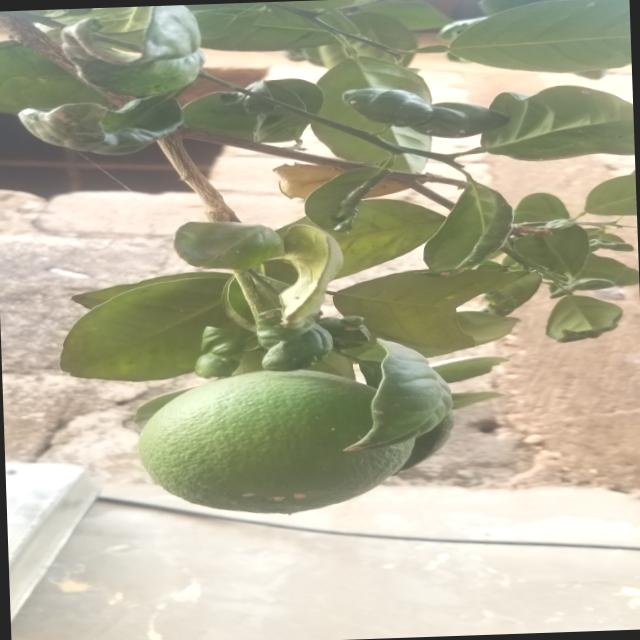agrume: (119, 364, 445, 540)
